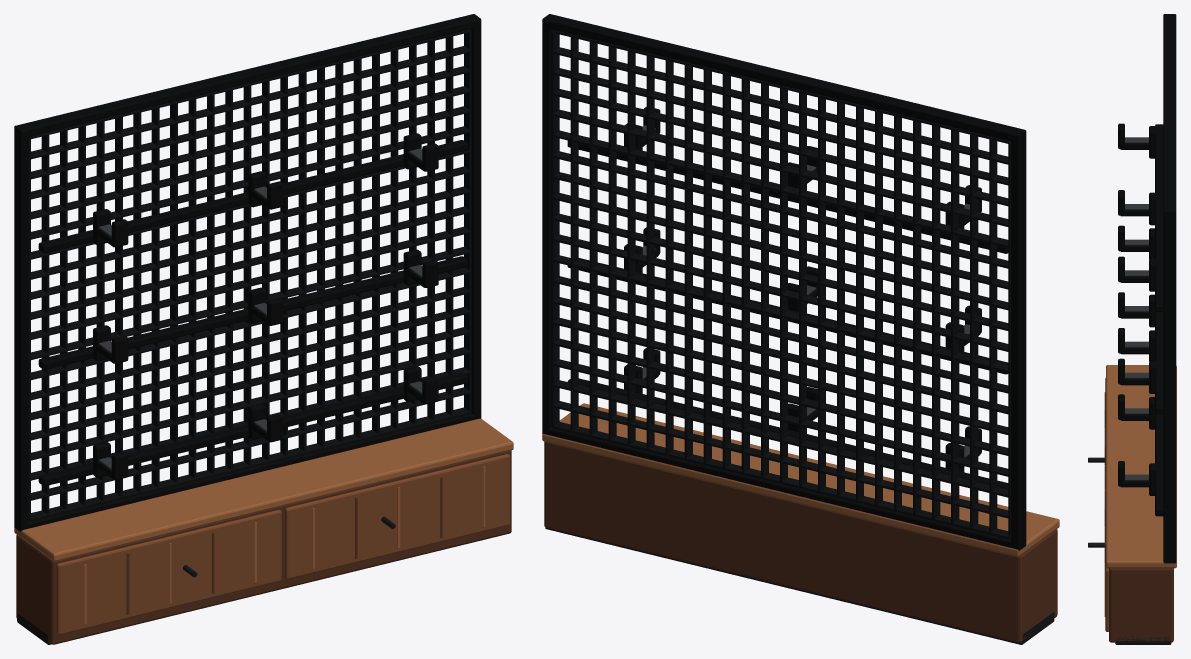
The model's file is WeaponDisplayRack.glb.
The picture shows the model from 3 angles, left to right: view 1: azimuth 30°, elevation 25°; view 2: azimuth 150°, elevation 25°; view 3: azimuth 270°, elevation 25°; orthographic projection. The views are drawn at different scales.
Visible parts, largest first — view 1: CabinetTop, CabinetDoorLeft, CabinetDoorRight, CabinetBody, FrameTop, FrameLeft, FrameRight, MiddleWeaponRail, TopWeaponRail, BottomWeaponRail, FrameBottom, PegboardHorizontal12 (+44 smaller); view 2: CabinetBody, CabinetTop, FrameTop, FrameLeft, FrameRight, FrameBottom, PegboardHorizontal01, PegboardHorizontal04, PegboardHorizontal13, PegboardHorizontal03, PegboardHorizontal08, PegboardHorizontal10 (+43 smaller); view 3: CabinetTop, FrameRight, CabinetBody, FrameTop, TopWeaponRail, BottomWeaponRail, MiddleWeaponRail, CabinetPlinth, CabinetDoorRight, TopSupport2BackPlate, MiddleSupport3BackPlate, TopSupport1BackPlate (+29 smaller).
Boxes of the visible parts, box(x1,y1,x2,y2) form: CabinetTop: box(14, 418, 513, 561); CabinetDoorLeft: box(56, 509, 281, 635); CabinetDoorRight: box(284, 454, 509, 579); CabinetBody: box(16, 450, 511, 644); FrameTop: box(21, 15, 476, 136); FrameLeft: box(14, 124, 28, 531); FrameRight: box(468, 14, 481, 419); MiddleWeaponRail: box(38, 256, 467, 369); TopWeaponRail: box(38, 140, 467, 253); BottomWeaponRail: box(38, 372, 467, 486); FrameBottom: box(28, 413, 476, 528); PegboardHorizontal12: box(30, 186, 470, 299); CabinetBody: box(544, 441, 1057, 642); CabinetTop: box(542, 403, 1059, 556); FrameTop: box(547, 15, 1018, 141); FrameLeft: box(1011, 128, 1026, 550); FrameRight: box(542, 14, 555, 434); FrameBottom: box(547, 427, 1013, 548); PegboardHorizontal01: box(553, 422, 1010, 539); PegboardHorizontal04: box(554, 359, 1008, 476); PegboardHorizontal13: box(554, 172, 1008, 289); PegboardHorizontal03: box(554, 380, 1008, 497); PegboardHorizontal08: box(554, 276, 1008, 393); PegboardHorizontal10: box(554, 234, 1008, 351); CabinetTop: box(1106, 365, 1176, 568); FrameRight: box(1163, 208, 1176, 563); CabinetBody: box(1109, 568, 1173, 642); FrameTop: box(1163, 16, 1176, 208); TopWeaponRail: box(1155, 124, 1163, 311); BottomWeaponRail: box(1155, 414, 1163, 516); MiddleWeaponRail: box(1155, 312, 1163, 413); CabinetPlinth: box(1115, 636, 1171, 644); CabinetDoorRight: box(1105, 475, 1108, 631); TopSupport2BackPlate: box(1149, 192, 1156, 225); MiddleSupport3BackPlate: box(1149, 361, 1156, 393); TopSupport1BackPlate: box(1149, 126, 1156, 158).
Bounding box in the file's own units: 4.6 × 4.72 × 0.875.
